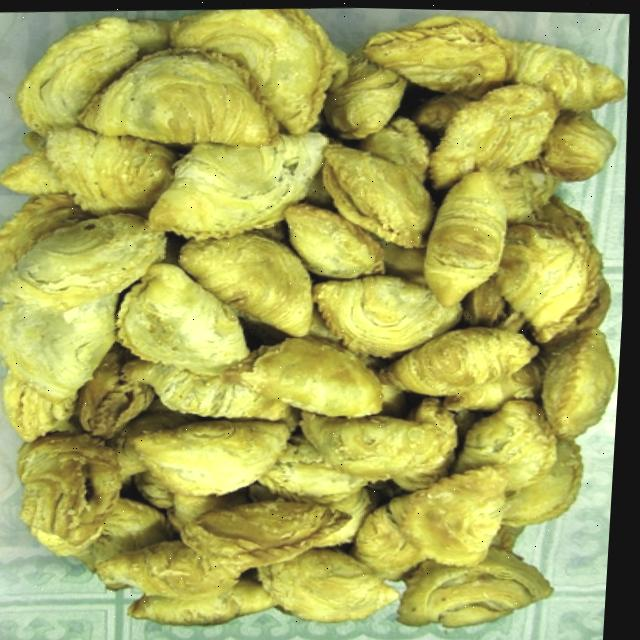炸货点心: (0, 13, 625, 627)
